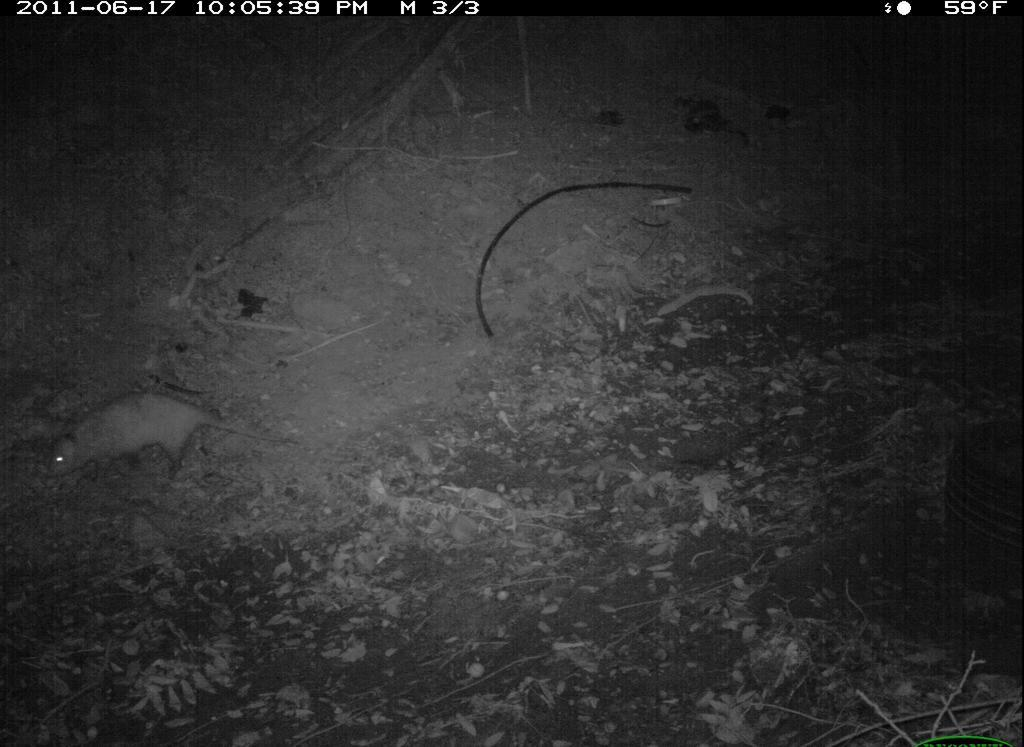opossum: (34, 382, 322, 513)
